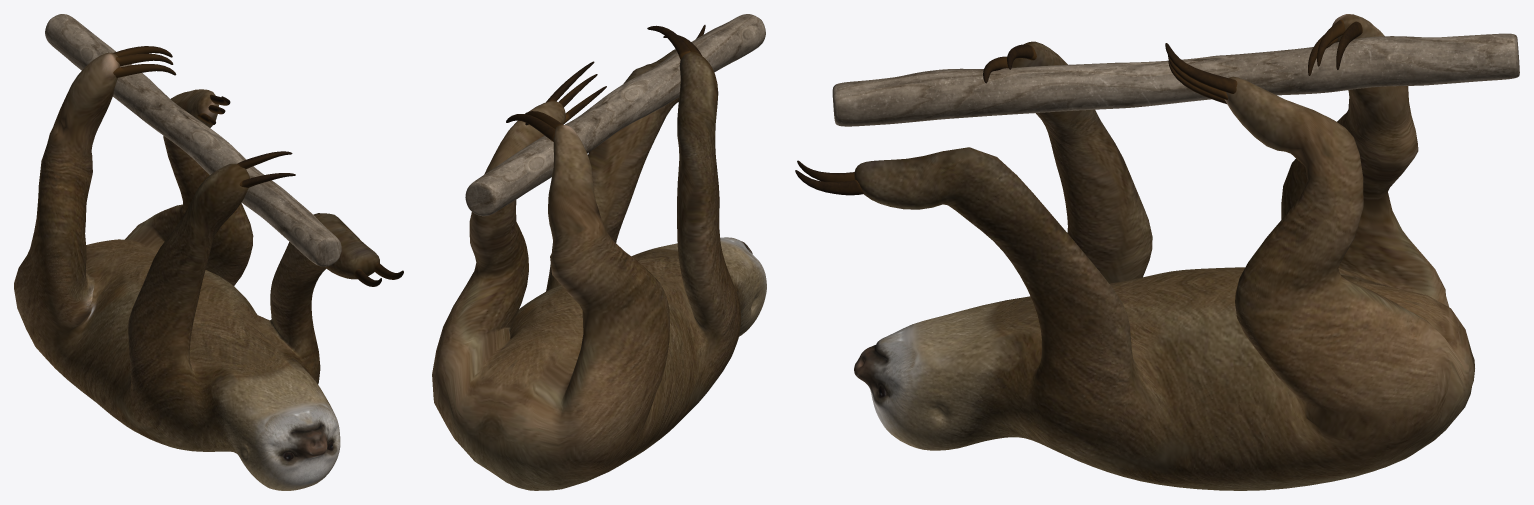
Rendered from OsoPerezosoDeDosDedos.glb.
3 views of the same model, side by side, from view 1: azimuth 30°, elevation 25°; view 2: azimuth 150°, elevation 25°; view 3: azimuth 270°, elevation 25° (orthographic). The views are drawn at different scales.
Visible parts, largest first — view 1: OsoPerezosoDeDosDedos_02; view 2: OsoPerezosoDeDosDedos_02; view 3: OsoPerezosoDeDosDedos_02.
Part boxes in pixels (bbox=[...]): OsoPerezosoDeDosDedos_02: bbox=[14, 14, 403, 490]; OsoPerezosoDeDosDedos_02: bbox=[432, 14, 766, 490]; OsoPerezosoDeDosDedos_02: bbox=[795, 14, 1519, 490].
Size of the model in its own units: 1.36 by 2.34 by 3.37.
Materials: 2 (2 with a texture image).
